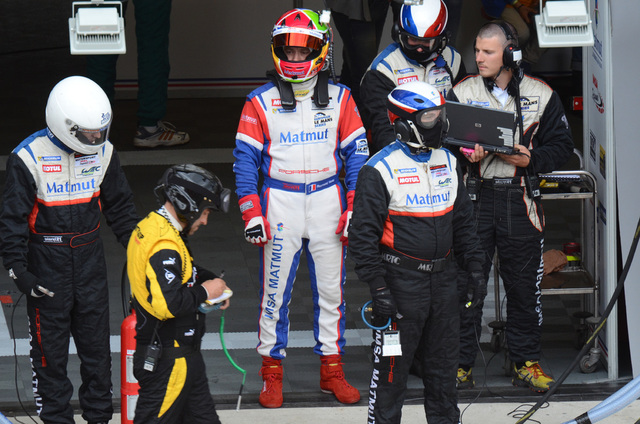helmet: (48, 77, 117, 153), (268, 15, 332, 80), (163, 164, 232, 218), (391, 91, 452, 145), (392, 2, 454, 53)
